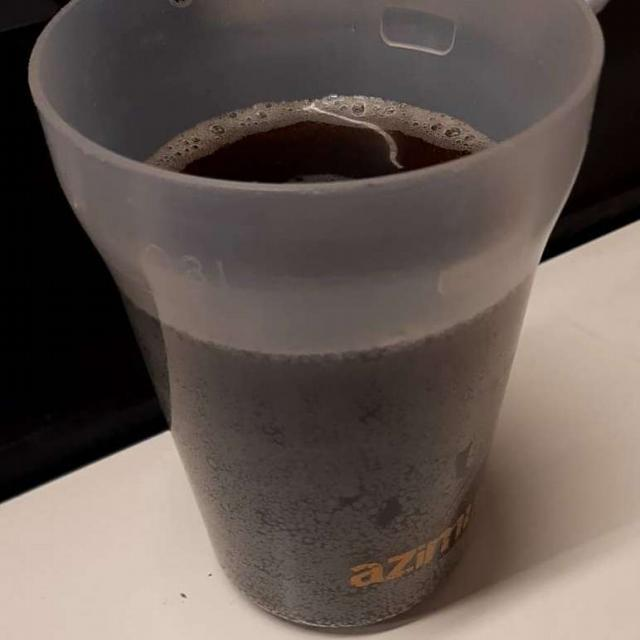coca-cola: (95, 90, 559, 619)
